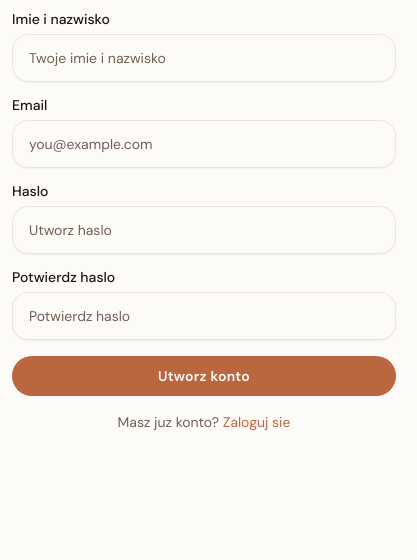
Test: SignUpForm › shows validation errors when submitting empty form
What coordinates should you click on to do the following:
click the button "Utworz konto"
I would click on:
 (204, 376)
Its box is 12,356 -> 396,396.
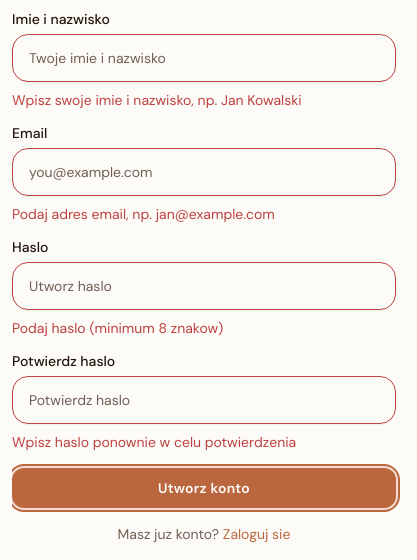
Expected: the text "Wpisz swoje imie i nazwisko, np. Jan Kowalski" is shown, 12,91 -> 302,109
Expected: the text "Podaj adres email, np. jan@example.com" is shown, 12,205 -> 275,223
Expected: the text "Podaj haslo (minimum 8 znakow)" is shown, 12,319 -> 223,337
